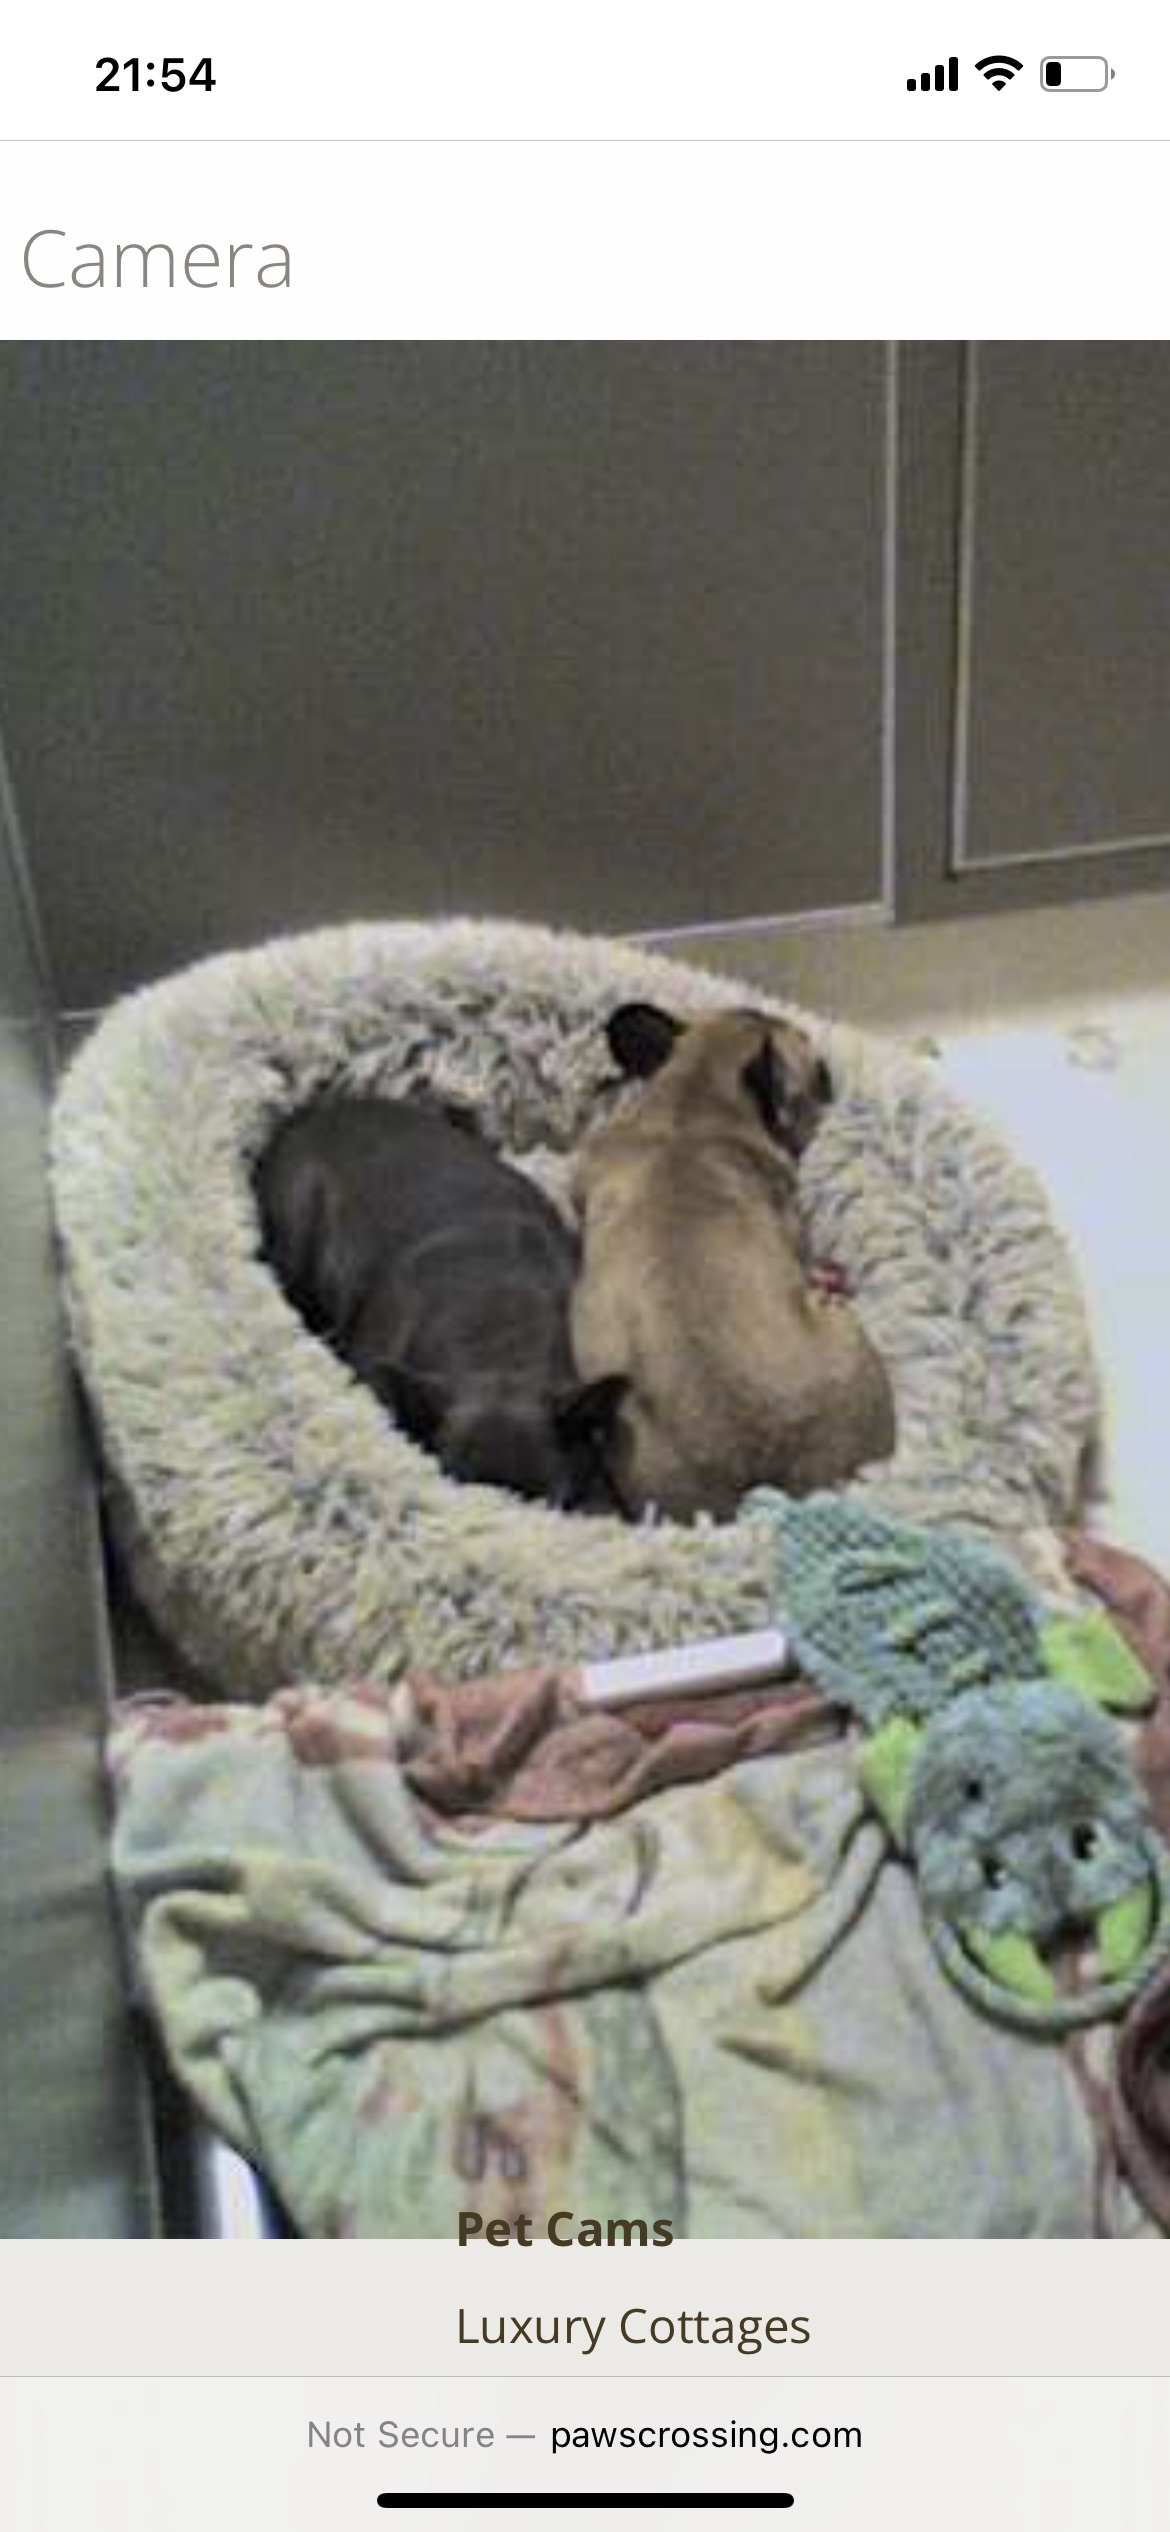lucy: (229, 1075, 633, 1537)
